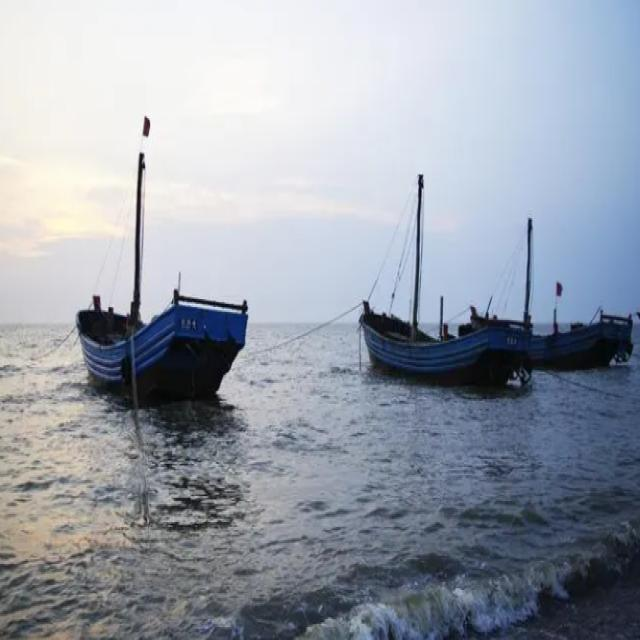fishing boat: (77, 115, 254, 398), (356, 175, 519, 375), (460, 208, 632, 374)
